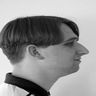ear: (23, 40, 51, 66)
